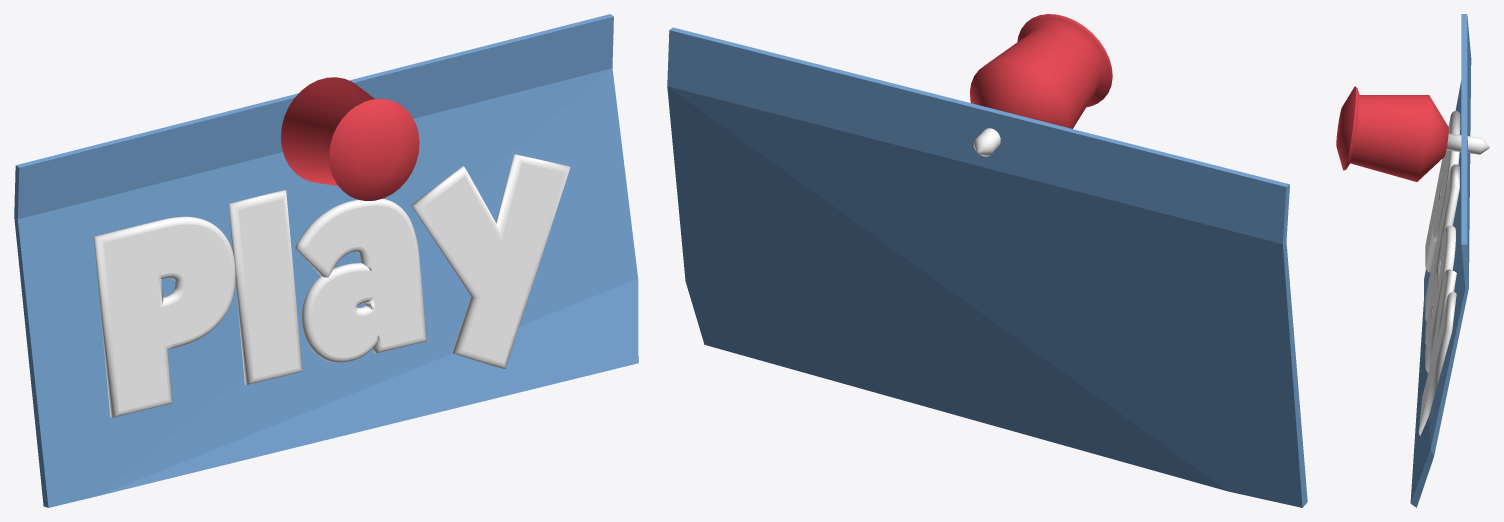
File: final_play_button.fbx
3 renders of one model, left to right at view 1: azimuth 30°, elevation 25°; view 2: azimuth 150°, elevation 25°; view 3: azimuth 270°, elevation 25°, orthographic. The views are drawn at different scales.
Parts seen in each view (by area): view 1: SM_Prop_Note_04, Text, pin.001; view 2: SM_Prop_Note_04, pin.001; view 3: pin.001, SM_Prop_Note_04, Text.
Part boxes in pixels (x1,y1,x2,y2): SM_Prop_Note_04: (14, 14, 638, 507); Text: (94, 154, 570, 417); pin.001: (281, 77, 419, 201); SM_Prop_Note_04: (667, 27, 1307, 507); pin.001: (970, 14, 1112, 156); pin.001: (1336, 86, 1489, 181); SM_Prop_Note_04: (1410, 14, 1471, 507); Text: (1418, 111, 1460, 435).
Bounding box in the file's own units: 192 × 114 × 52.33.
Materials: 3 (1 with a texture image).
